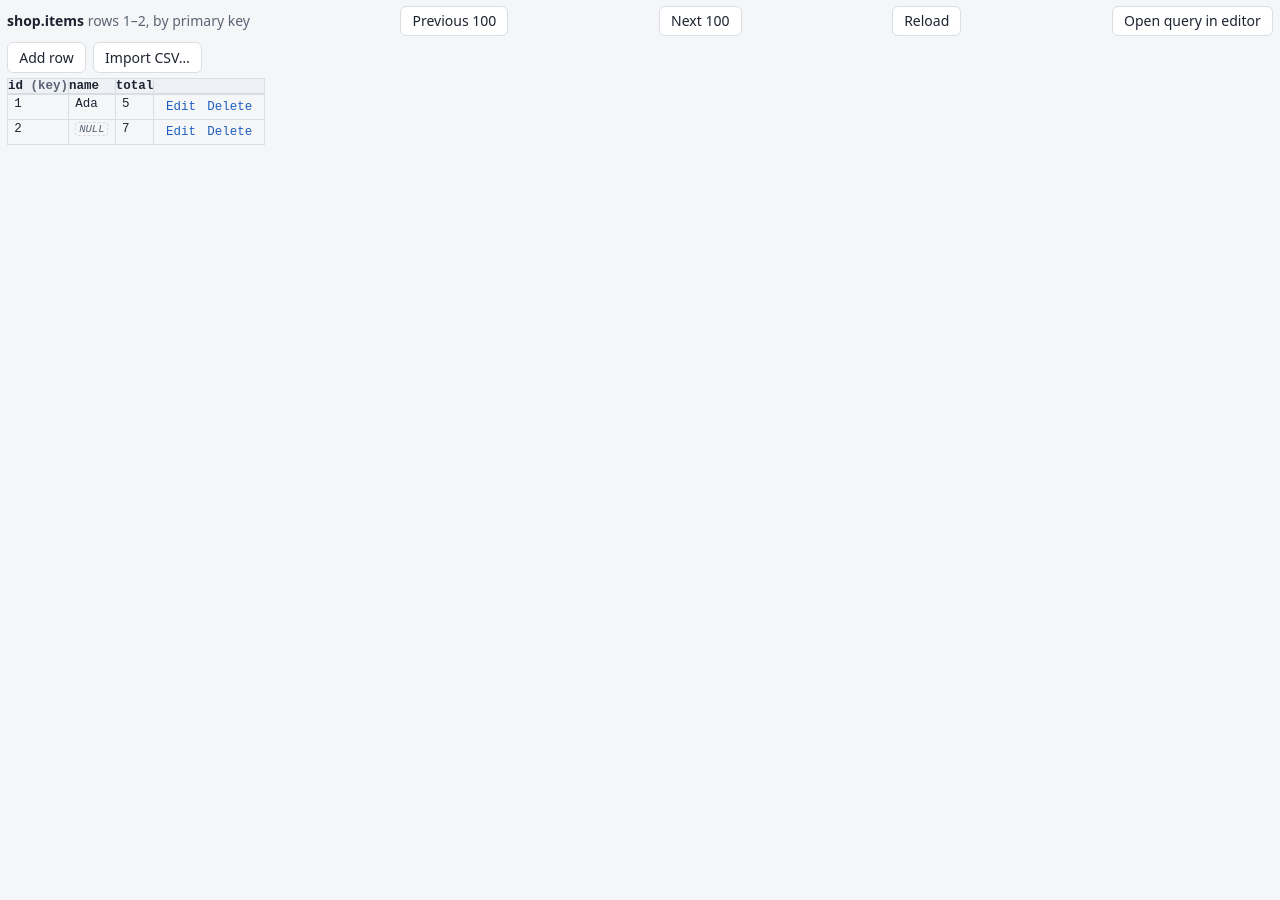
Test: table data (admin Phase 6) › rolls back when the save request itself fails
Click the button with aria-label "Delete row 1". click: (230,107)
box: [202, 97, 258, 117]
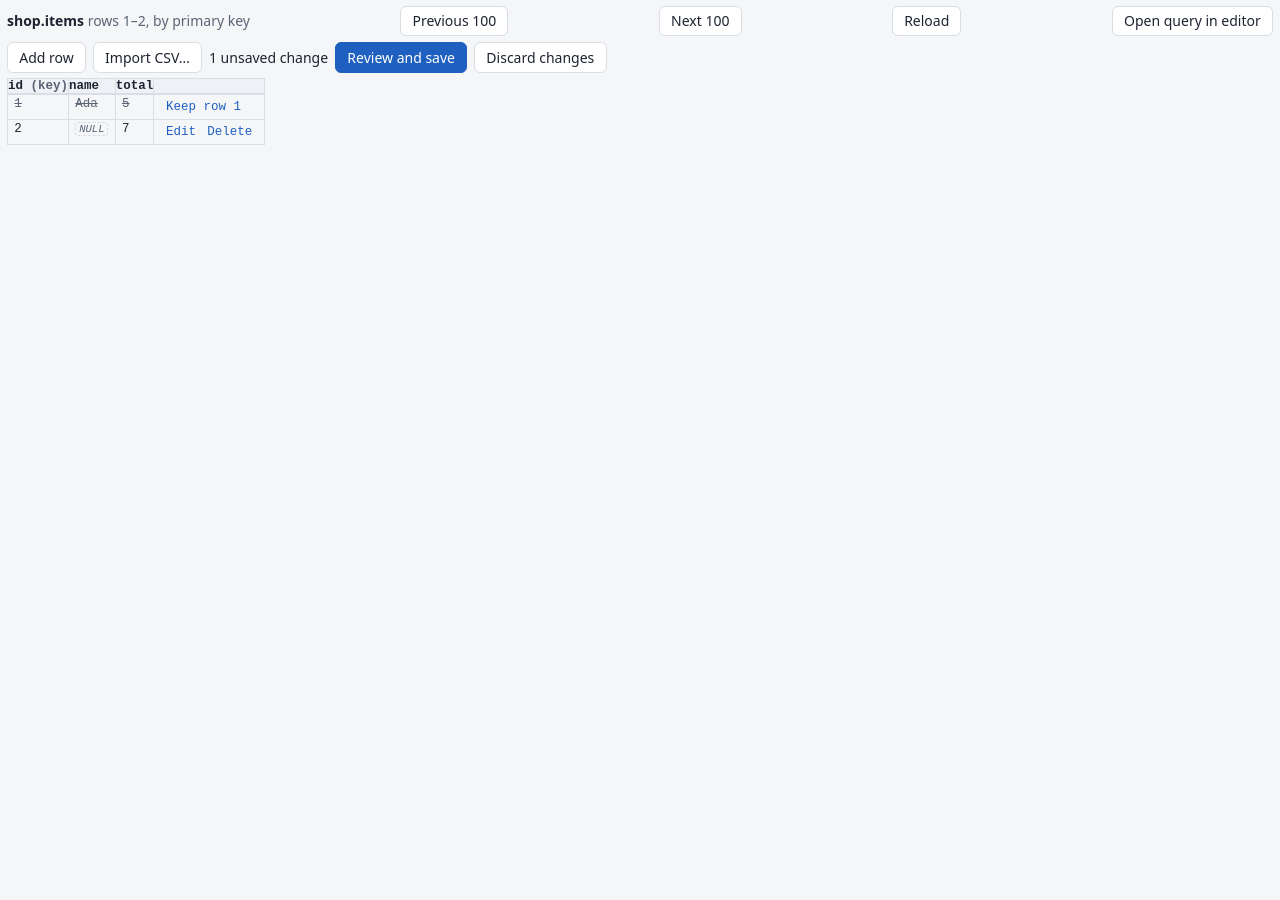
Click the button "Review and save". click: (401,57)
box: [335, 42, 467, 73]
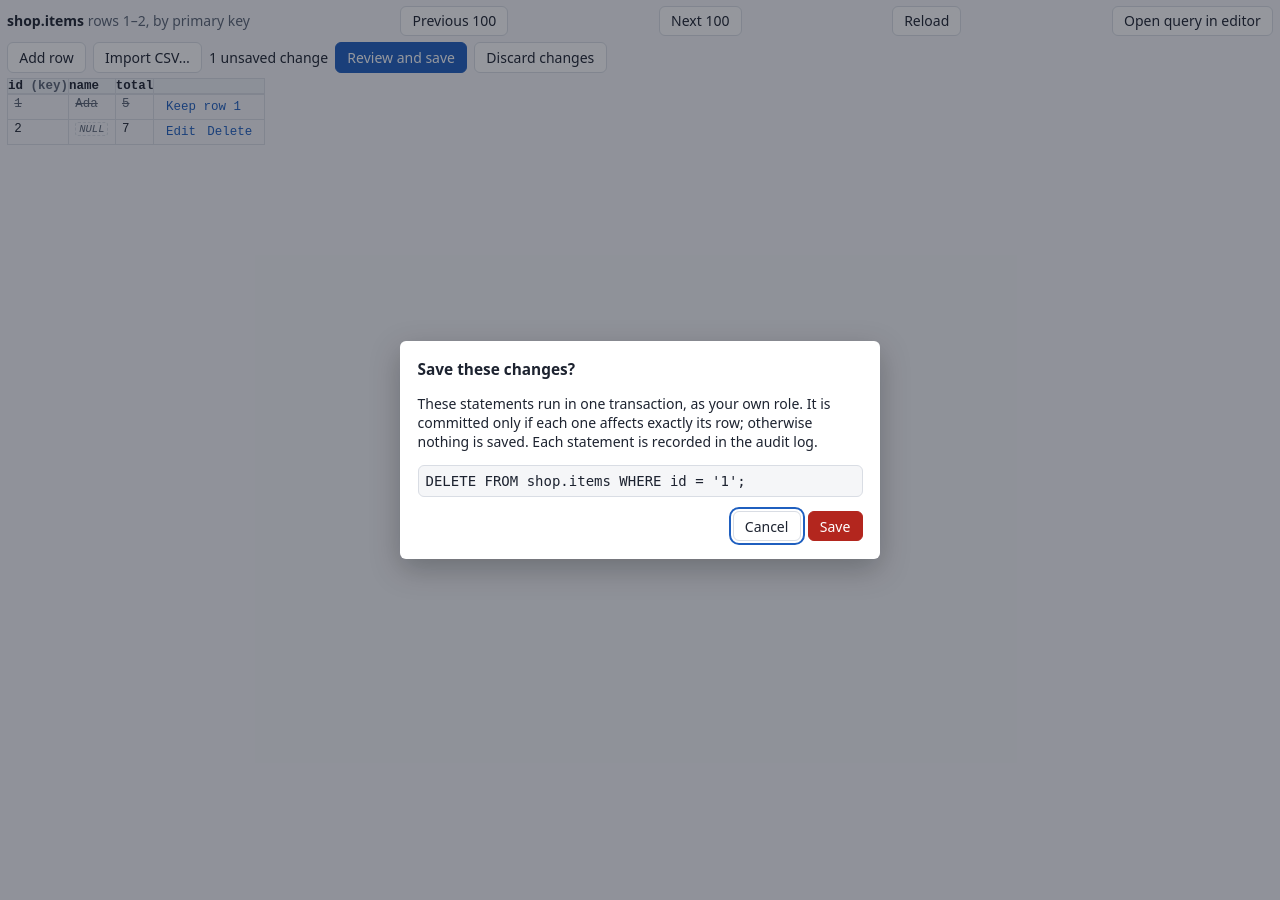
Click the button "Save". click: (835,526)
box: [808, 511, 862, 541]
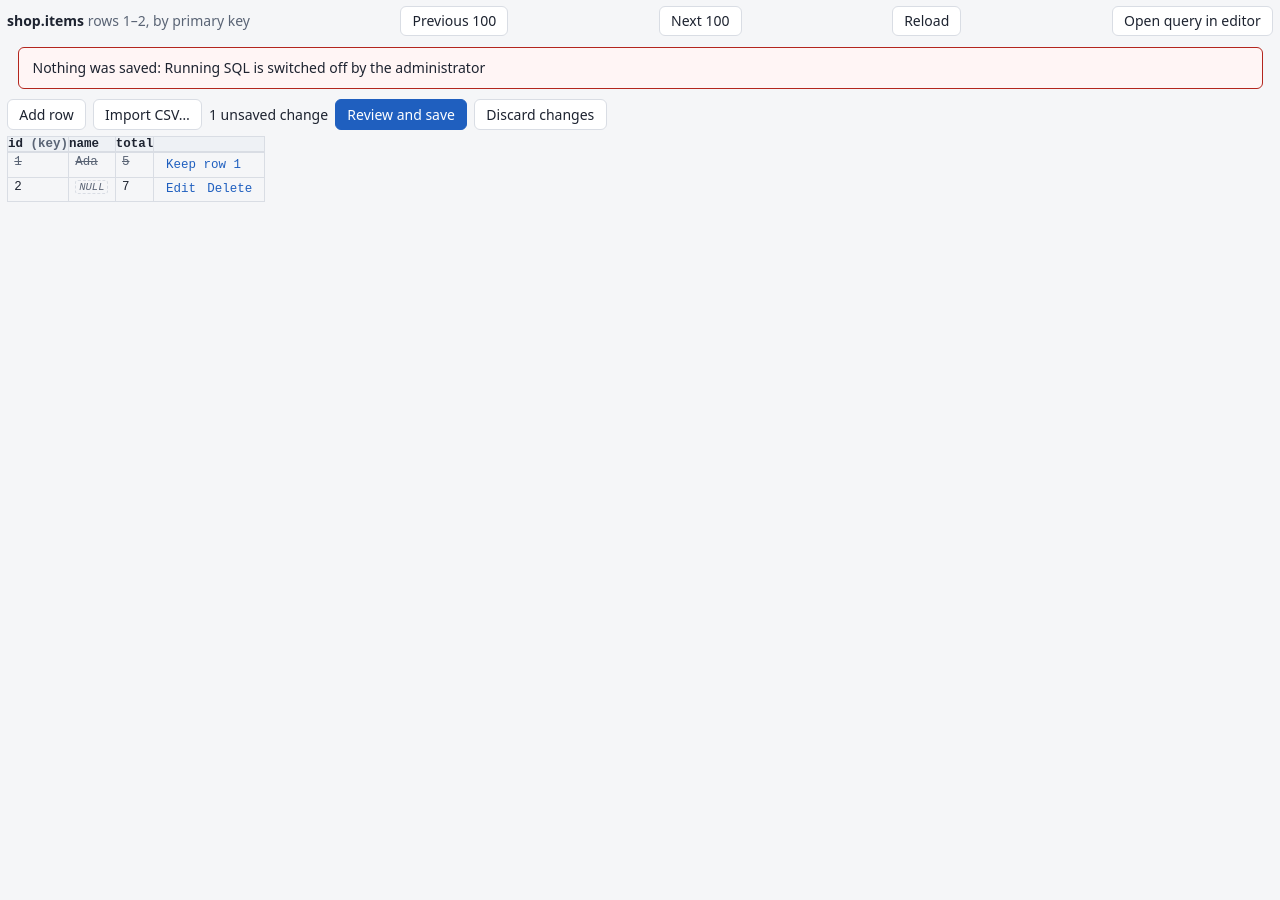
Now the message shows "Nothing was saved: Running SQL is switched off", box [32, 58, 485, 77]
